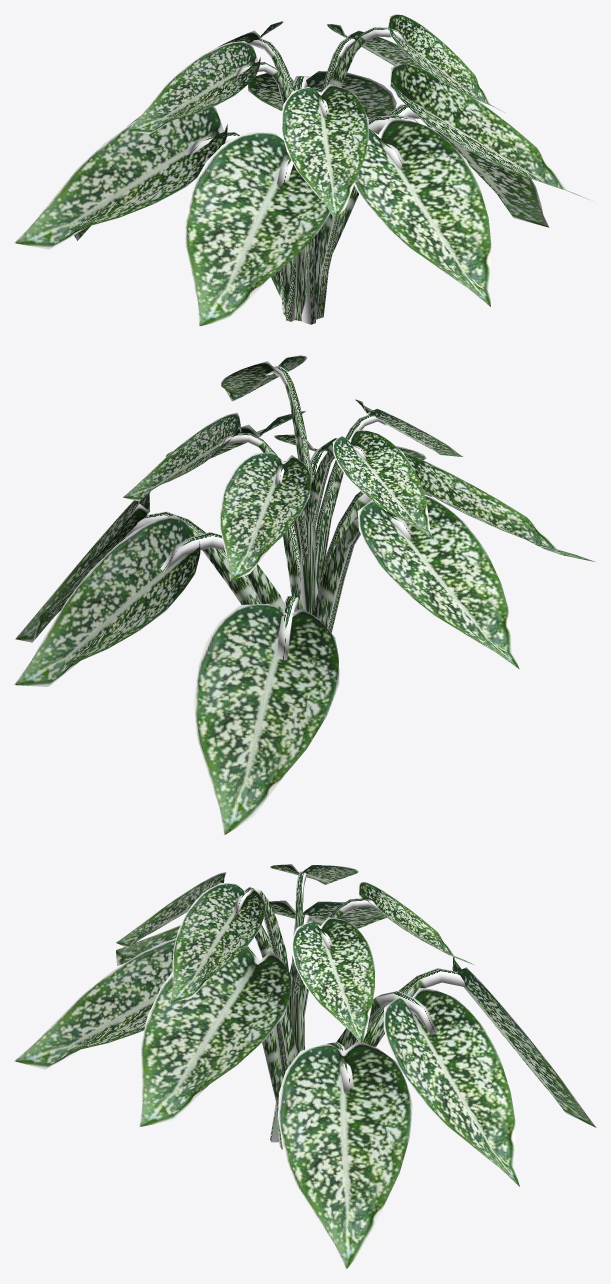
Rendered from Tinharao.FBX.
The picture shows the model from 3 angles, top to bottom: view 1: azimuth 30°, elevation 25°; view 2: azimuth 150°, elevation 25°; view 3: azimuth 270°, elevation 25°; orthographic projection. The views are drawn at different scales.
Visible parts, largest first — view 1: Plane08, Plane12, Plane06, Plane18, Plane11, Plane13, Plane15, Plane09, Plane07, Line12, Line16, Line08 (+6 smaller); view 2: Plane10, Plane07, Plane06, Plane16, Plane13, Plane08, Plane09, Plane17, Line06, Line13, Line18, Line07 (+8 smaller); view 3: Plane09, Plane11, Plane07, Plane12, Plane17, Plane15, Plane10, Plane16, Plane18, Plane06, Line10, Line07 (+8 smaller).
Part boxes in pixels (bbox=[...]): Plane08: bbox=[184, 132, 330, 326]; Plane12: bbox=[354, 117, 491, 306]; Plane06: bbox=[14, 106, 227, 249]; Plane18: bbox=[280, 84, 368, 218]; Plane11: bbox=[389, 64, 593, 201]; Plane13: bbox=[128, 40, 260, 134]; Plane15: bbox=[387, 14, 504, 112]; Plane09: bbox=[421, 119, 549, 227]; Plane07: bbox=[248, 71, 396, 120]; Line12: bbox=[314, 143, 403, 319]; Line16: bbox=[248, 38, 315, 324]; Line08: bbox=[276, 159, 310, 321]; Plane10: bbox=[194, 603, 339, 835]; Plane07: bbox=[14, 515, 200, 686]; Plane06: bbox=[357, 496, 519, 669]; Plane16: bbox=[219, 452, 310, 580]; Plane13: bbox=[332, 429, 433, 539]; Plane08: bbox=[403, 453, 595, 561]; Plane09: bbox=[15, 492, 150, 642]; Plane17: bbox=[123, 412, 241, 501]; Line06: bbox=[312, 515, 411, 632]; Line13: bbox=[300, 445, 365, 614]; Line18: bbox=[315, 414, 386, 587]; Line07: bbox=[160, 532, 284, 610]; Plane09: bbox=[278, 1041, 412, 1269]; Plane11: bbox=[139, 948, 292, 1126]; Plane07: bbox=[383, 987, 519, 1186]; Plane12: bbox=[14, 938, 175, 1069]; Plane17: bbox=[292, 917, 374, 1043]; Plane15: bbox=[170, 883, 265, 1002]; Plane10: bbox=[452, 957, 596, 1127]; Plane16: bbox=[359, 882, 473, 964]; Plane18: bbox=[116, 872, 226, 948]; Plane06: bbox=[269, 900, 386, 928]; Line10: bbox=[362, 968, 465, 1047]; Line07: bbox=[336, 991, 437, 1050].
Size of the model in its own units: 520 by 301 by 524.
